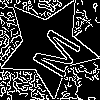M: (23, 22, 82, 81)
